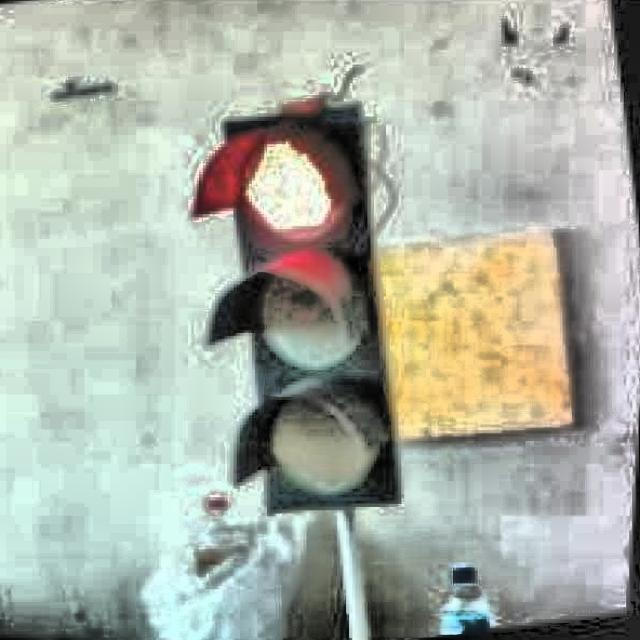red: (219, 102, 387, 514)
